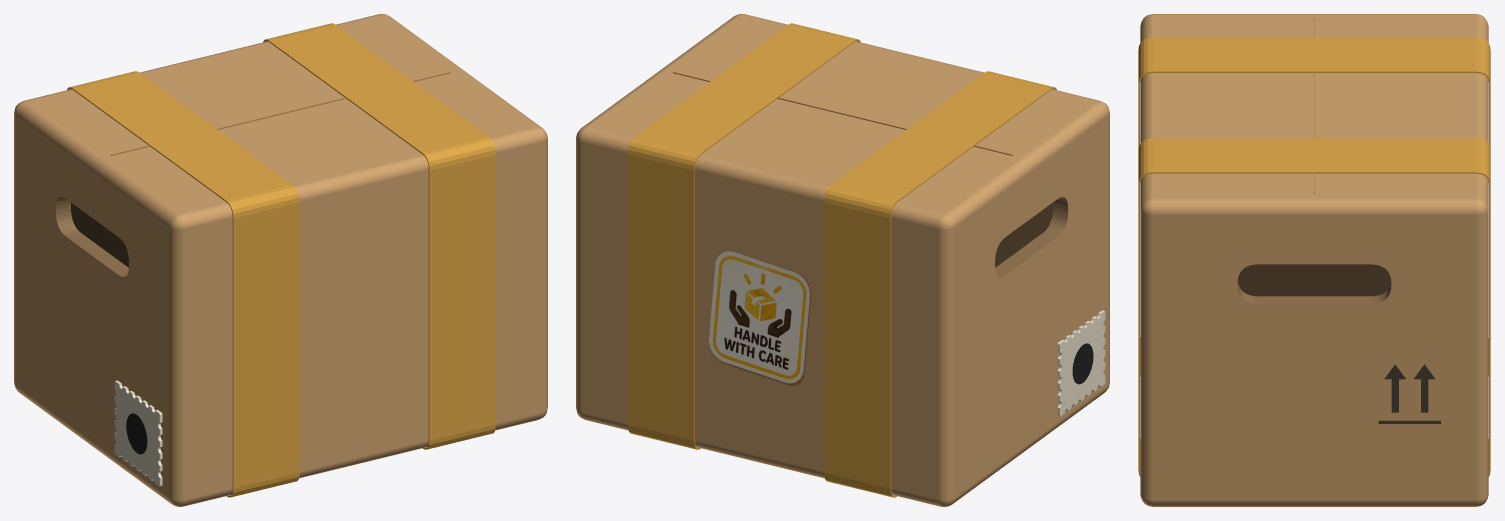
Rendered from play-parcel-large-yellow.glb.
The picture shows the model from 3 angles, left to right: view 1: azimuth 30°, elevation 25°; view 2: azimuth 150°, elevation 25°; view 3: azimuth 270°, elevation 25°; orthographic projection. The views are drawn at different scales.
Parts seen in each view (by area): view 1: Parcel_Carton, Parcel_Tape_Parallel_1, Parcel_Tape_Parallel_2, Parcel_Paper_Label, Parcel_Carry_Slot_Walls_Negative_X, Parcel_Carry_Slot_Interior_Negative_X, Parcel_Label_Circle; view 2: Parcel_Carton, Parcel_Tape_Parallel_1, Parcel_Tape_Parallel_2, Parcel_Care_H3_Artwork, Parcel_Paper_Label, Parcel_Carry_Slot_Walls_Negative_X, Parcel_Carry_Slot_Interior_Negative_X, Parcel_Label_Circle; view 3: Parcel_Carton, Parcel_Tape_Parallel_2, Parcel_Tape_Parallel_1, Parcel_Carry_Slot_Interior_Positive_X, Parcel_Carry_Slot_Walls_Positive_X, Parcel_Up_Arrows_Positive_X.
Boxes of the visible parts, x1,y1,x2,y2 form: Parcel_Carton: (14, 14, 547, 506); Parcel_Tape_Parallel_1: (67, 71, 299, 497); Parcel_Tape_Parallel_2: (263, 23, 495, 449); Parcel_Paper_Label: (114, 380, 162, 486); Parcel_Carry_Slot_Walls_Negative_X: (56, 196, 128, 277); Parcel_Carry_Slot_Interior_Negative_X: (71, 202, 128, 267); Parcel_Label_Circle: (126, 413, 147, 454); Parcel_Carton: (576, 14, 1109, 506); Parcel_Tape_Parallel_1: (824, 71, 1056, 497); Parcel_Tape_Parallel_2: (628, 23, 860, 449); Parcel_Care_H3_Artwork: (708, 250, 811, 386); Parcel_Paper_Label: (1057, 310, 1105, 416); Parcel_Carry_Slot_Walls_Negative_X: (995, 197, 1068, 277); Parcel_Carry_Slot_Interior_Negative_X: (995, 202, 1052, 267); Parcel_Label_Circle: (1072, 343, 1093, 384); Parcel_Carton: (1140, 14, 1488, 506); Parcel_Tape_Parallel_2: (1138, 138, 1490, 476); Parcel_Tape_Parallel_1: (1138, 37, 1490, 376); Parcel_Carry_Slot_Interior_Positive_X: (1237, 264, 1391, 296); Parcel_Carry_Slot_Walls_Positive_X: (1237, 281, 1391, 304); Parcel_Up_Arrows_Positive_X: (1378, 364, 1440, 423).
Bounding box in the file's own units: 0.2526 × 0.187 × 0.192.
Materials: 11 (1 with a texture image).
